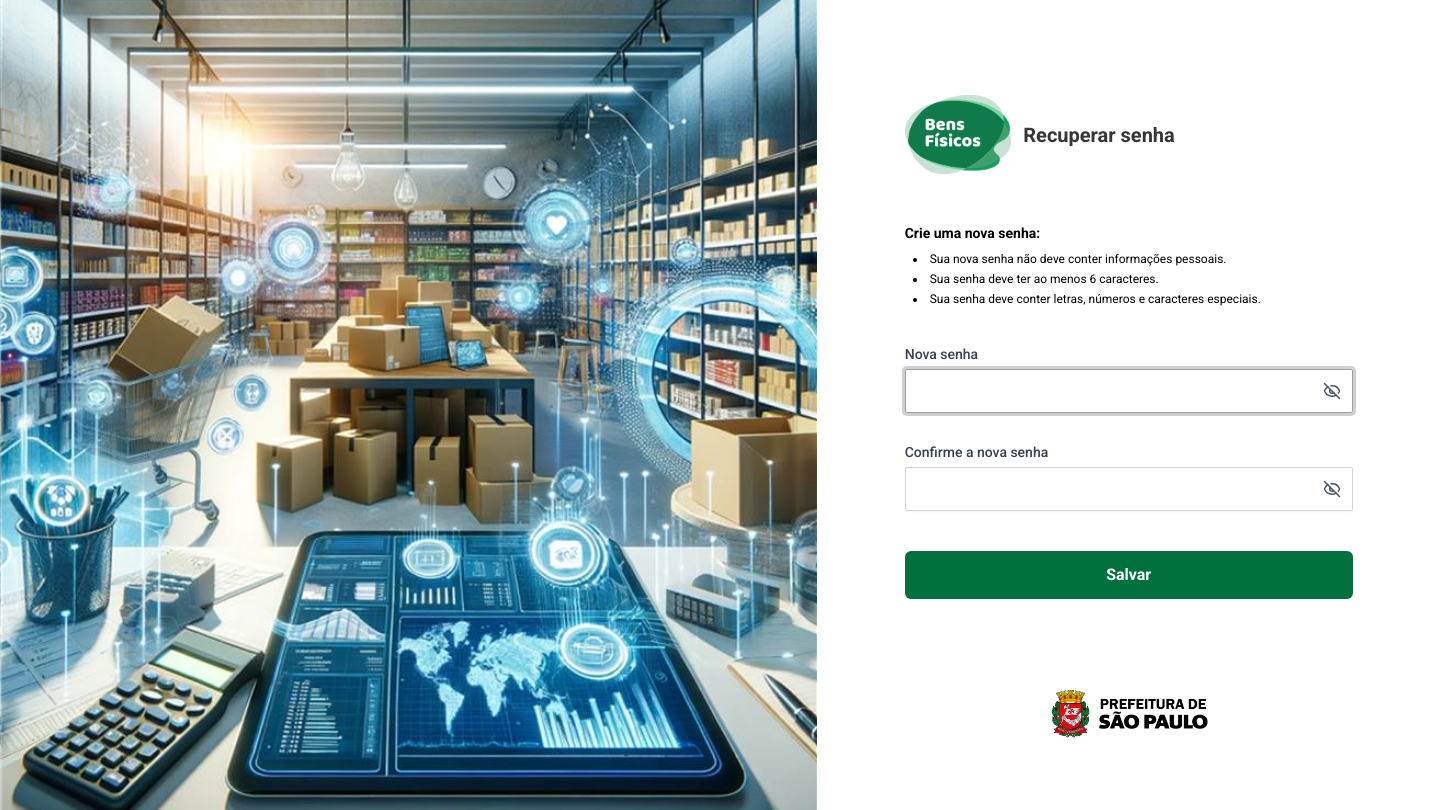
ResetPasswordPage › Validações › mostra erro quando senha tem menos de 6 caracteres
The image size is (1440, 810).
In the password field named "password": {"x": 1129, "y": 390} [905,368,1353,412], type "Ab1!"
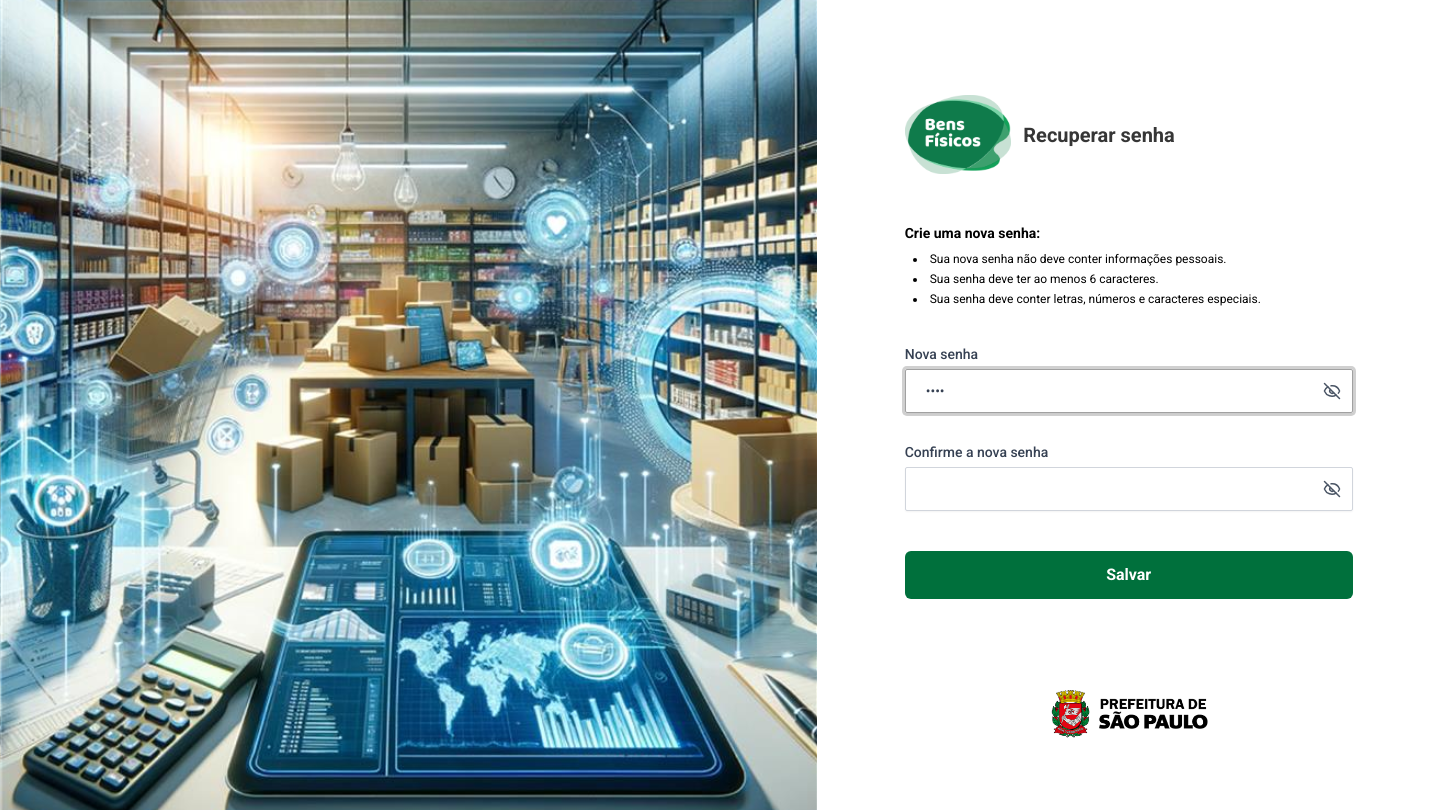
In the password field named "confirmPassword": {"x": 1129, "y": 488} [905,466,1353,510], type "Ab1!"
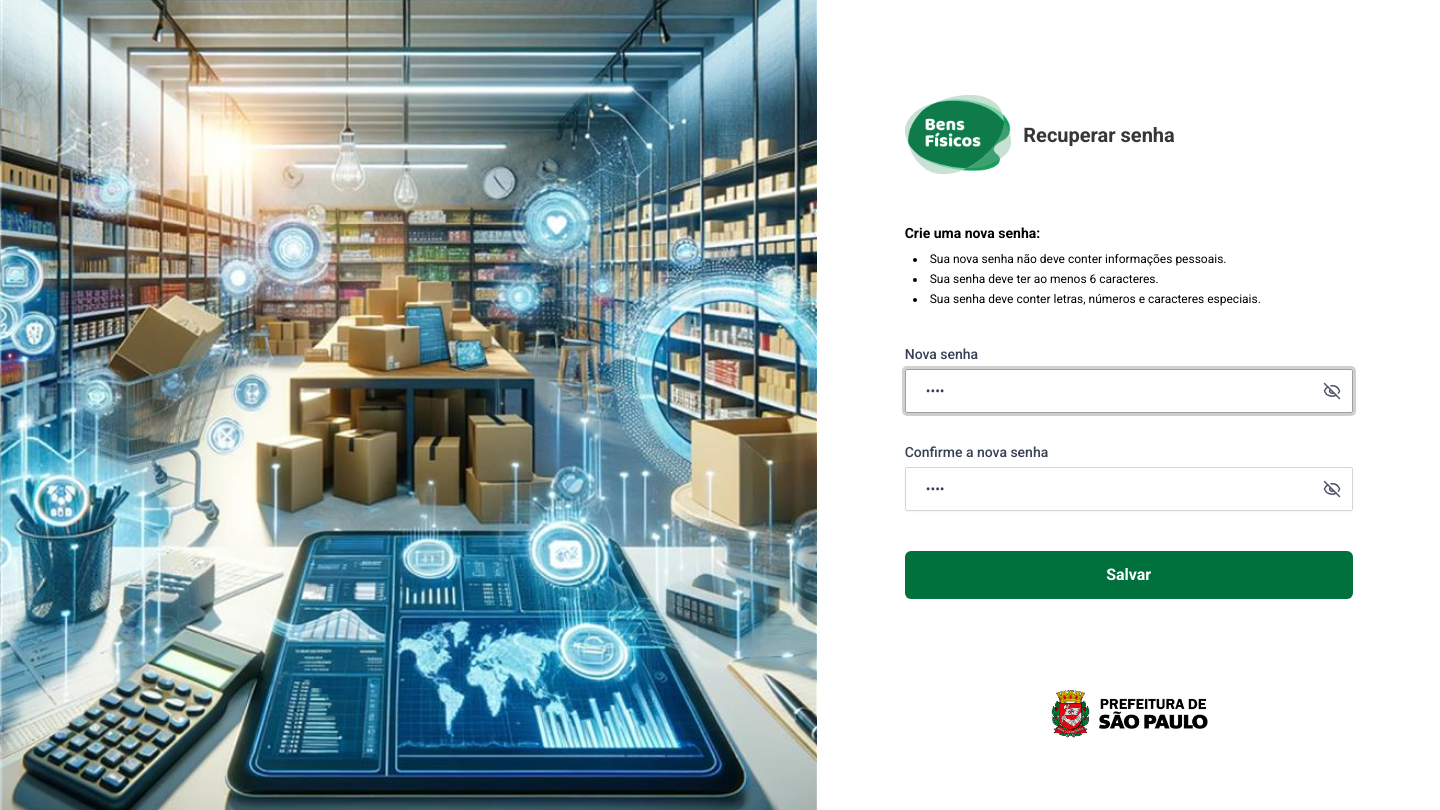
Click the button "Salvar": {"x": 1129, "y": 574} [905,550,1353,598]
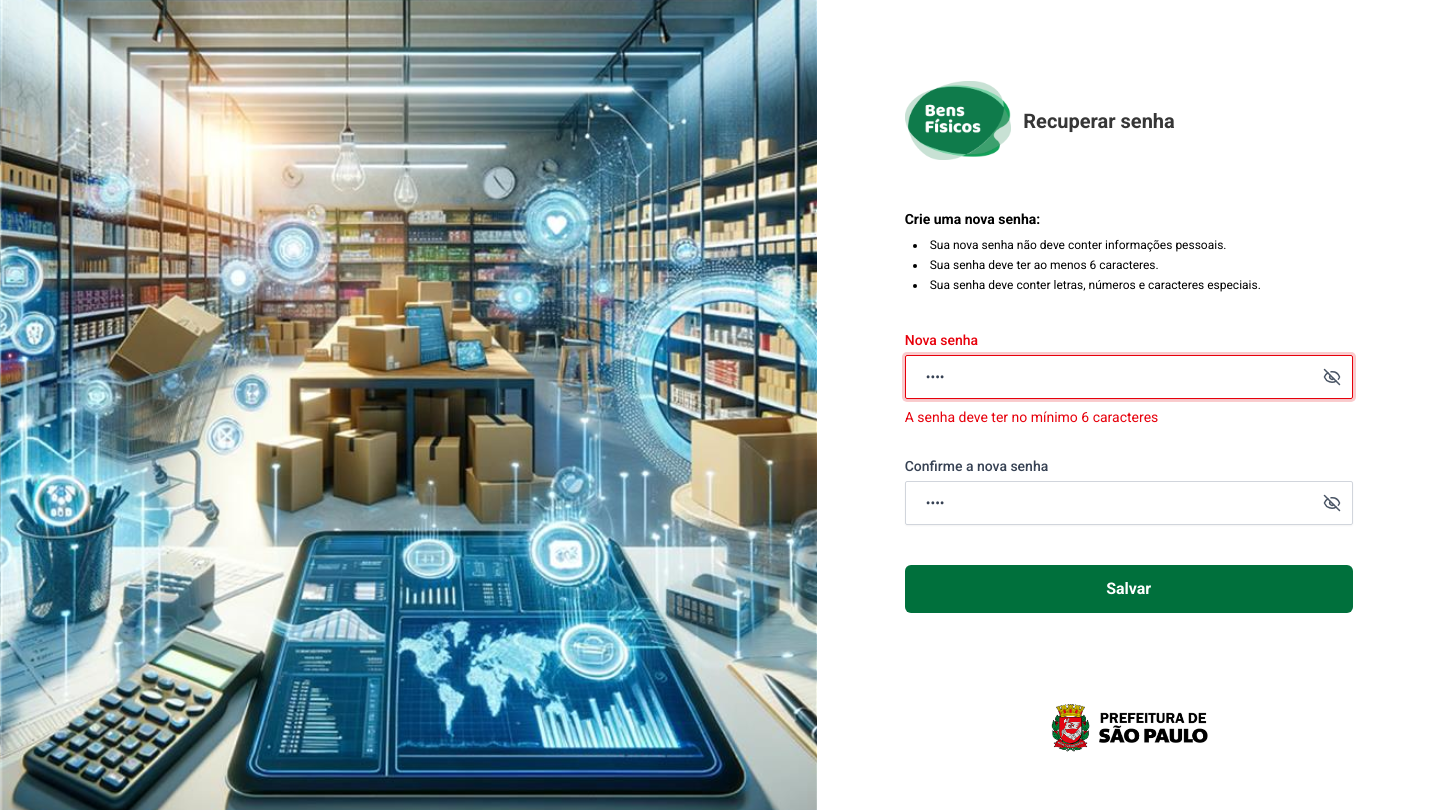
Result: the text "A senha deve ter no mínimo 6 caracteres" is shown at [905,408,1158,424]
